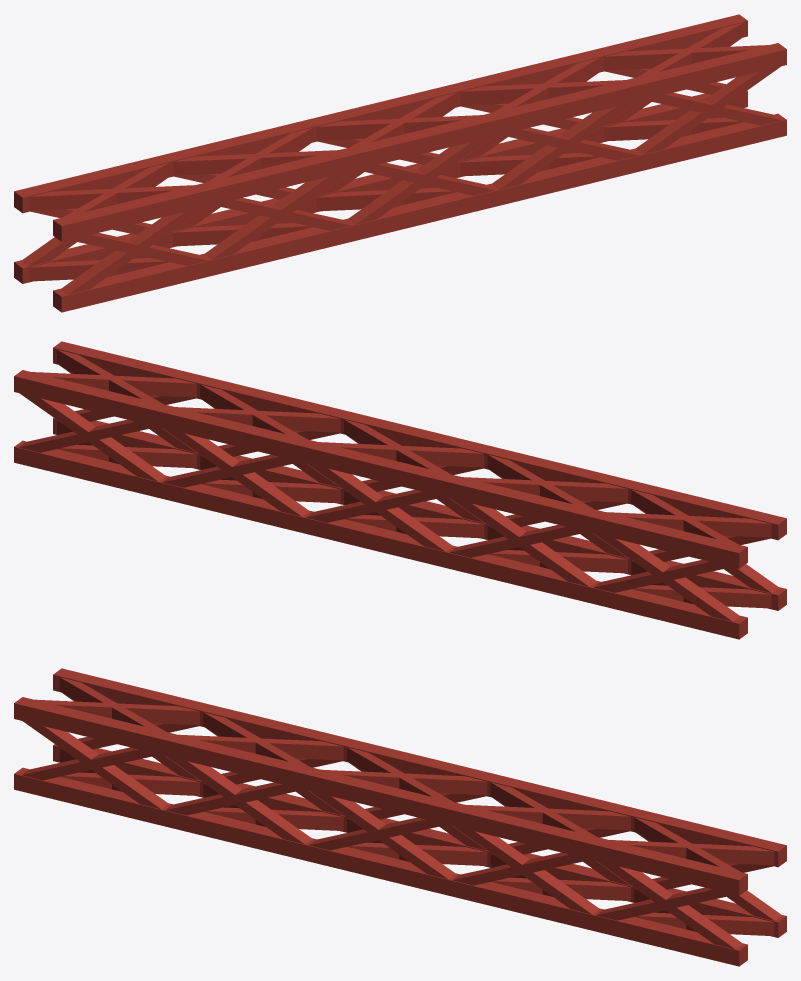
Rendered from Construction_column.fbx.
3 views of the same model, one above another, from view 1: azimuth 30°, elevation 25°; view 2: azimuth 150°, elevation 25°; view 3: azimuth 330°, elevation 25° (orthographic).
Visible parts, largest first — view 1: Steel_support; view 2: Steel_support; view 3: Steel_support.
Part boxes in pixels (x1=…): Steel_support: x1=14, y1=14, x2=786, y2=312; Steel_support: x1=14, y1=341, x2=786, y2=639; Steel_support: x1=14, y1=668, x2=786, y2=966.
Size of the model in its own units: 1074 by 122 by 122.
